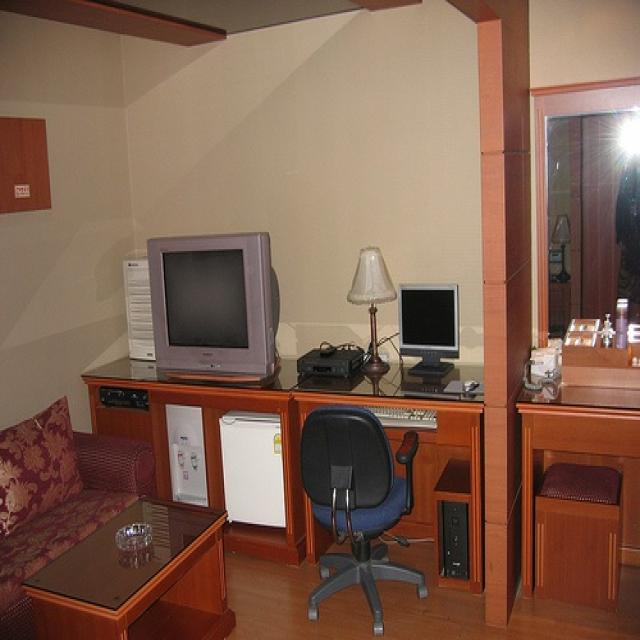chair: (306, 406, 427, 637)
sofa: (0, 394, 159, 638)
tvmonitor: (143, 230, 279, 384), (397, 284, 461, 376)
